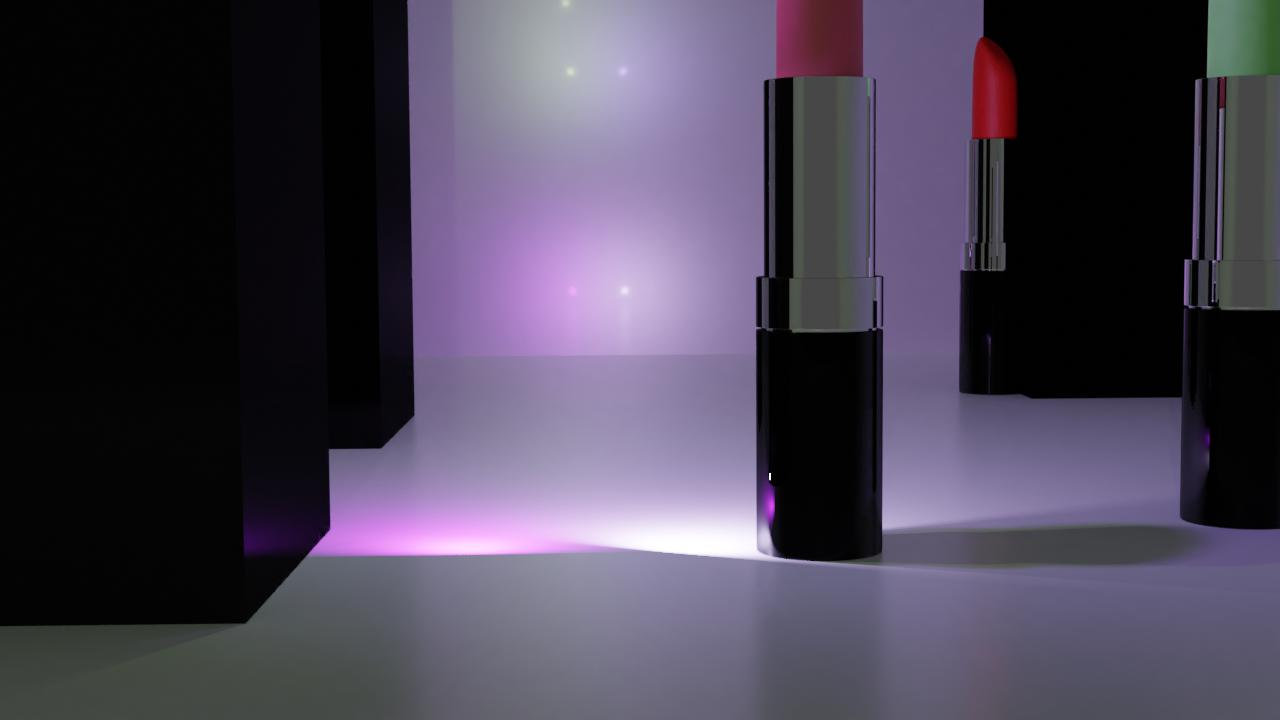CLASSIFIER_NAME: (754, 0, 886, 571), (1177, 0, 1280, 529), (957, 33, 1029, 395)
